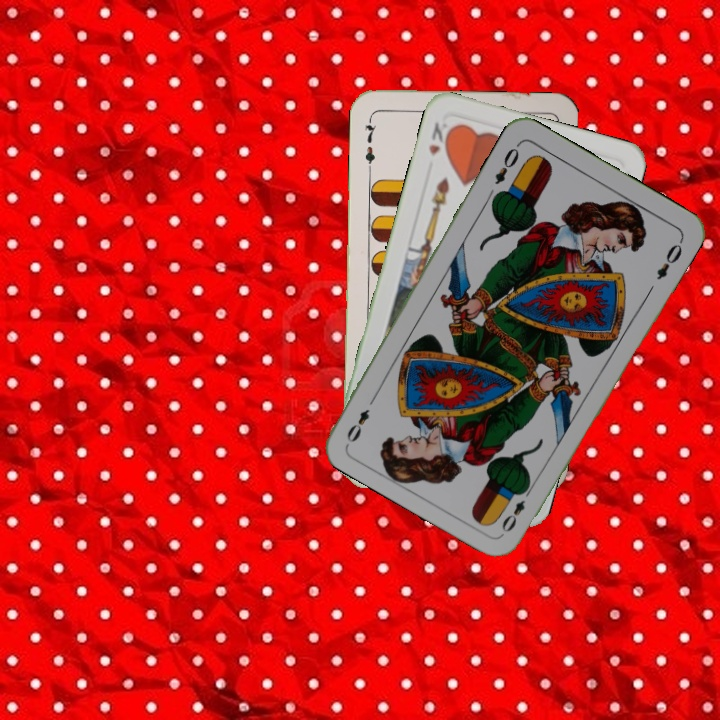E7: (360, 113, 379, 173)
EO: (497, 481, 535, 535), (491, 139, 522, 187)
HK: (424, 118, 456, 158)
